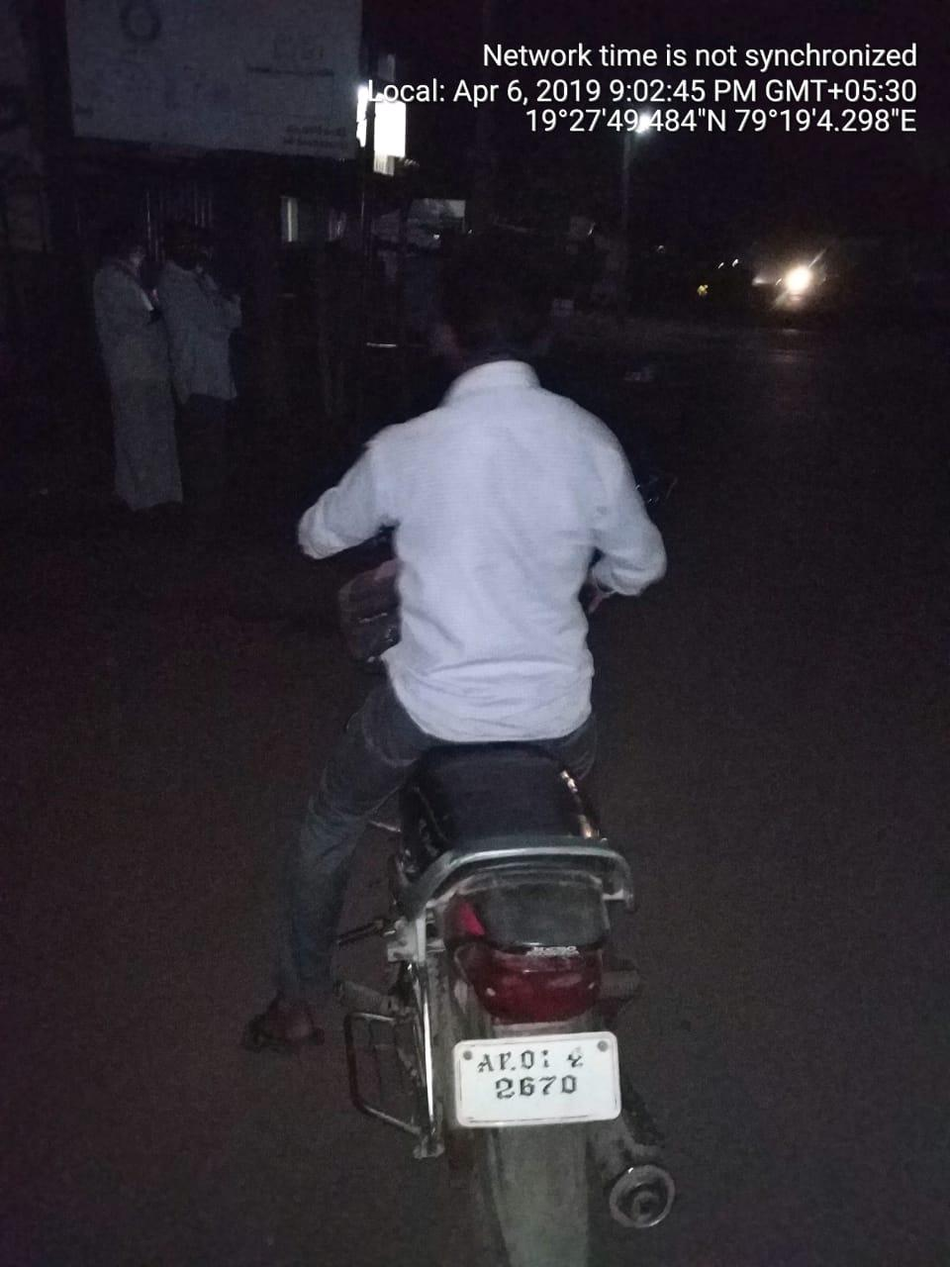plate: (440, 1017, 649, 1160)
